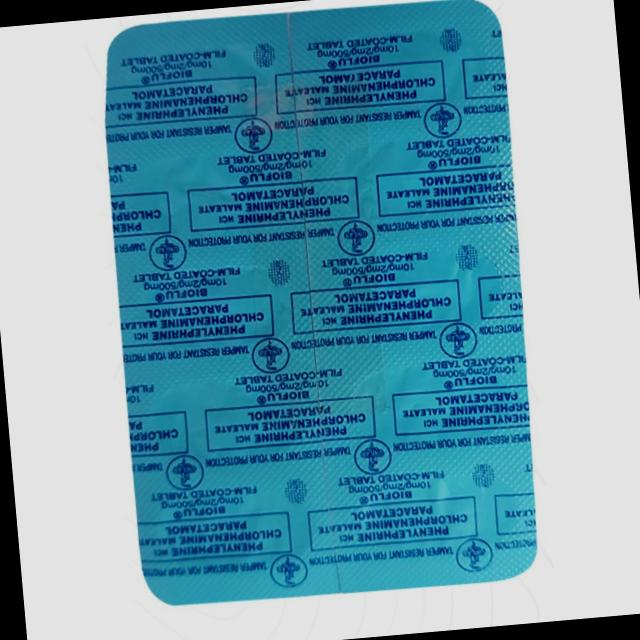blister: (92, 0, 555, 621)
